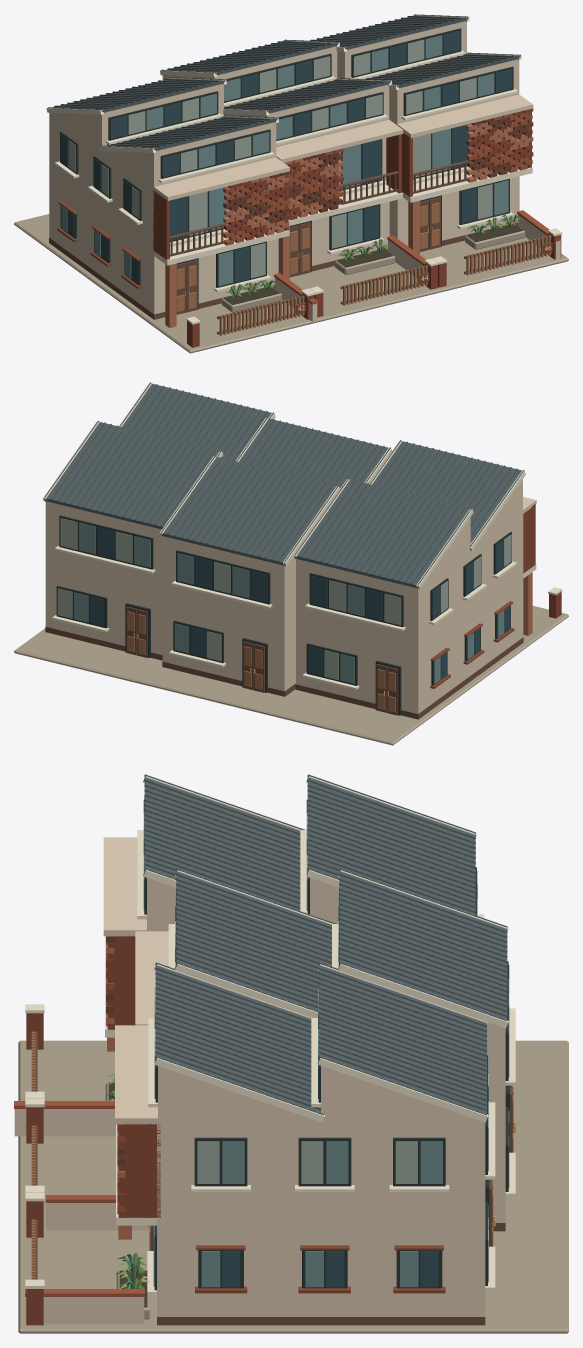
3 views of the same model, one above another, from view 1: azimuth 30°, elevation 25°; view 2: azimuth 150°, elevation 25°; view 3: azimuth 270°, elevation 25° (orthographic). The views are drawn at different scales.
Visible parts, largest first — view 1: Party-wall houses, Aluminium ribbon casements, Sawtooth clerestories, Hit-and-miss brickwork, Garden walls and sliding gates, Entrance joinery, Garden beds, Balcony joinery, Casements and sills, Pandan planting; view 2: Sawtooth clerestories, Party-wall houses, Aluminium ribbon casements, Entrance joinery, Casements and sills; view 3: Party-wall houses, Sawtooth clerestories, Aluminium ribbon casements, Garden walls and sliding gates, Casements and sills, Hit-and-miss brickwork, Entrance joinery, Pandan planting.
Boxes of the visible parts, x1,y1,x2,y2 form: Party-wall houses: (14, 75, 568, 353); Aluminium ribbon casements: (55, 28, 517, 292); Sawtooth clerestories: (46, 14, 522, 186); Hit-and-miss brickwork: (223, 108, 533, 245); Garden walls and sliding gates: (186, 210, 562, 347); Entrance joinery: (176, 195, 441, 314); Garden beds: (222, 224, 525, 312); Balcony joinery: (170, 160, 468, 256); Casements and sills: (57, 201, 141, 288); Pandan planting: (226, 214, 521, 299); Sawtooth clerestories: (43, 382, 525, 589); Party-wall houses: (14, 497, 568, 745); Aluminium ribbon casements: (52, 515, 516, 689); Entrance joinery: (125, 603, 401, 715); Casements and sills: (430, 601, 514, 688); Party-wall houses: (18, 837, 568, 1333); Sawtooth clerestories: (143, 774, 508, 1122); Aluminium ribbon casements: (137, 796, 515, 1294); Garden walls and sliding gates: (14, 1004, 149, 1325); Casements and sills: (195, 1245, 445, 1293); Hit-and-miss brickwork: (106, 936, 125, 1214); Entrance joinery: (147, 1085, 515, 1250); Pandan planting: (106, 1073, 149, 1288).
Bounding box in the file's own units: 18.48 × 8.16 × 14.97.
